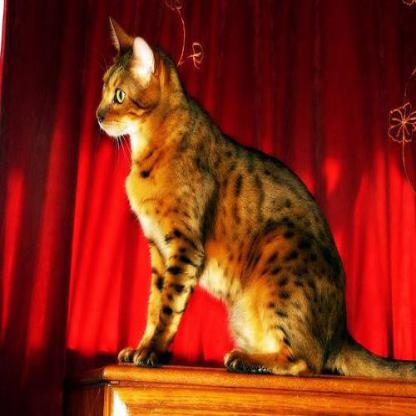cat: (95, 15, 415, 384)
